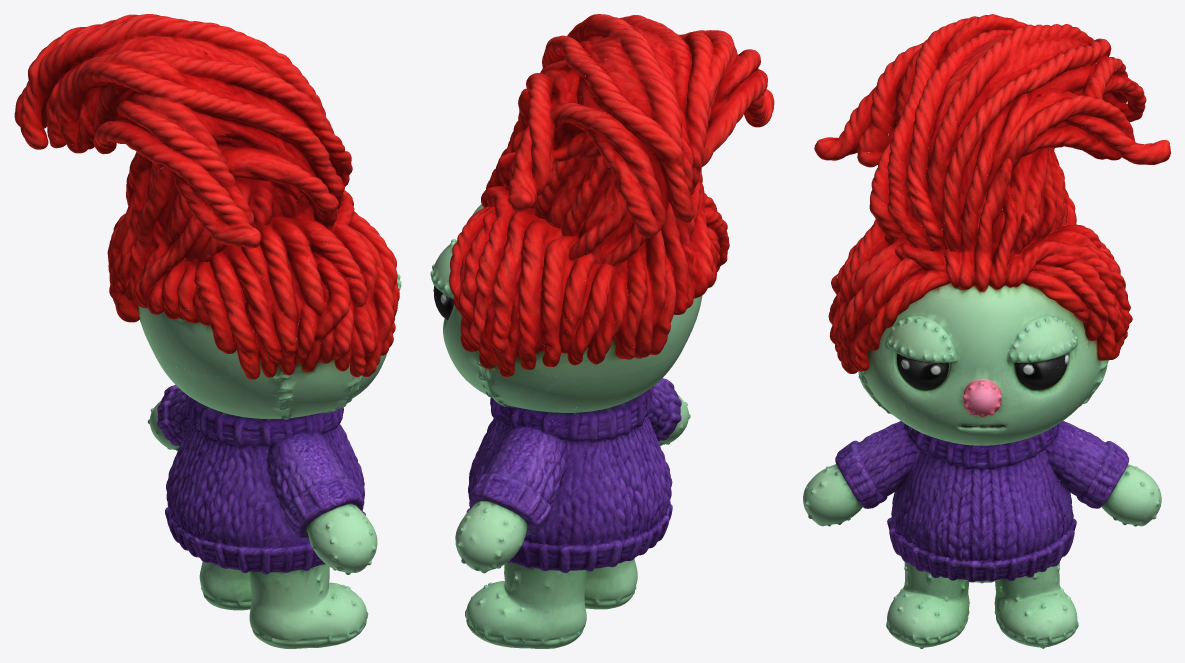
File: b_raw.glb
3 renders of one model, left to right at view 1: azimuth 30°, elevation 25°; view 2: azimuth 150°, elevation 25°; view 3: azimuth 270°, elevation 25°, orthographic. The views are drawn at different scales.
Parts seen in each view (by area): view 1: tripo_node_040b3677-e174-4452-8213-3847d5324a9e; view 2: tripo_node_040b3677-e174-4452-8213-3847d5324a9e; view 3: tripo_node_040b3677-e174-4452-8213-3847d5324a9e.
Boxes of the visible parts, left/top/right/bottom form: tripo_node_040b3677-e174-4452-8213-3847d5324a9e: left=14, top=14, right=401, bottom=648; tripo_node_040b3677-e174-4452-8213-3847d5324a9e: left=430, top=14, right=774, bottom=648; tripo_node_040b3677-e174-4452-8213-3847d5324a9e: left=803, top=14, right=1170, bottom=648.
Bounding box in the file's own units: 0.523 × 1 × 0.5968.
1 material, 1 textured.
